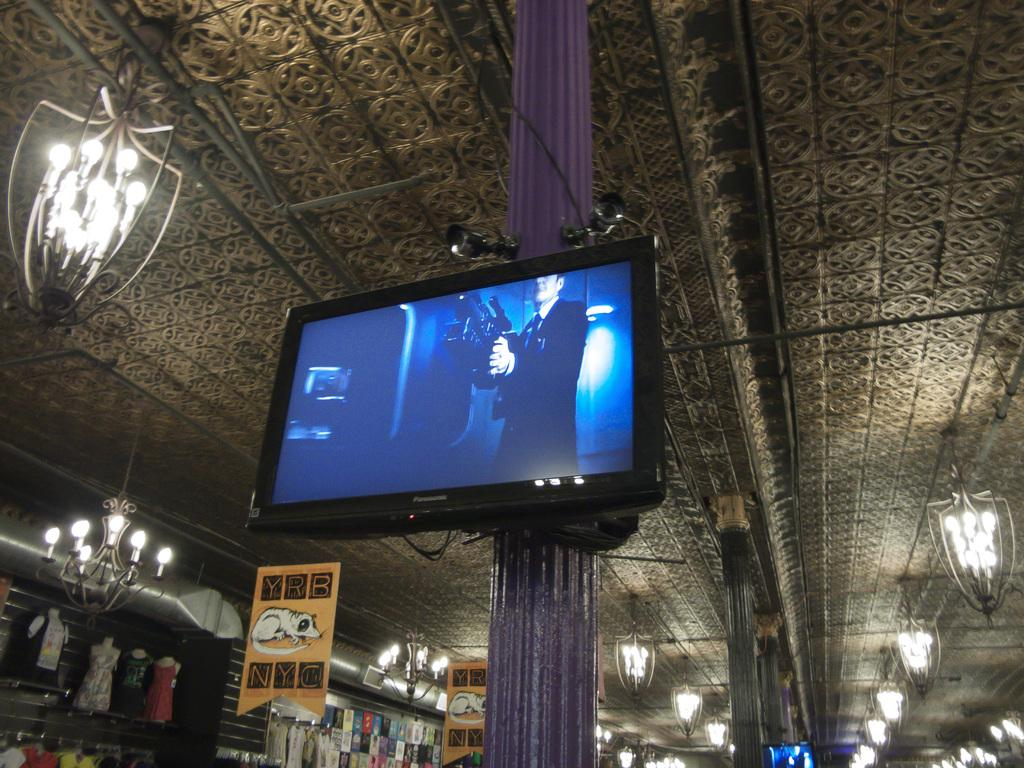Computer-monitor: (243, 233, 668, 538)
